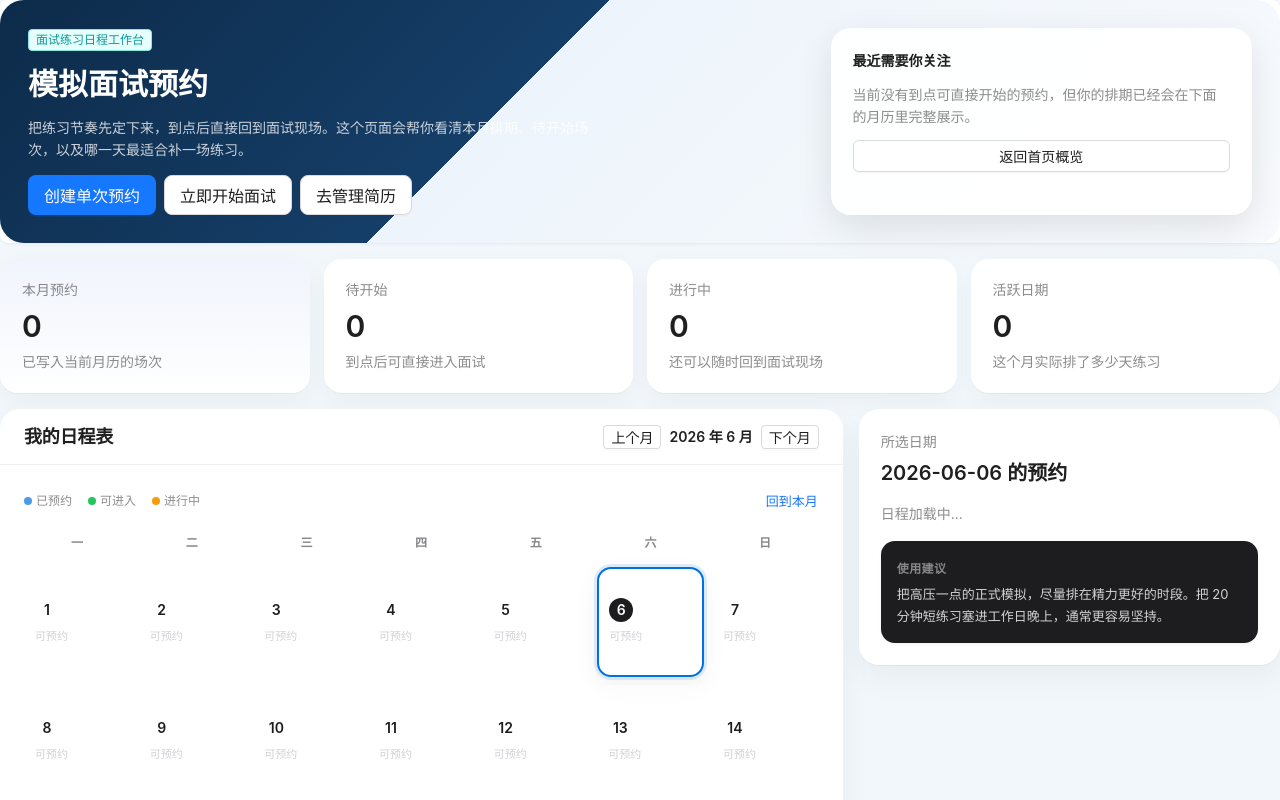
Scenario: InterviewSchedulePage › should submit create schedule payload
This screenshot has width=1280, height=800.
Click the button "创建单次预约".
click(92, 195)  # box [28,175,156,215]
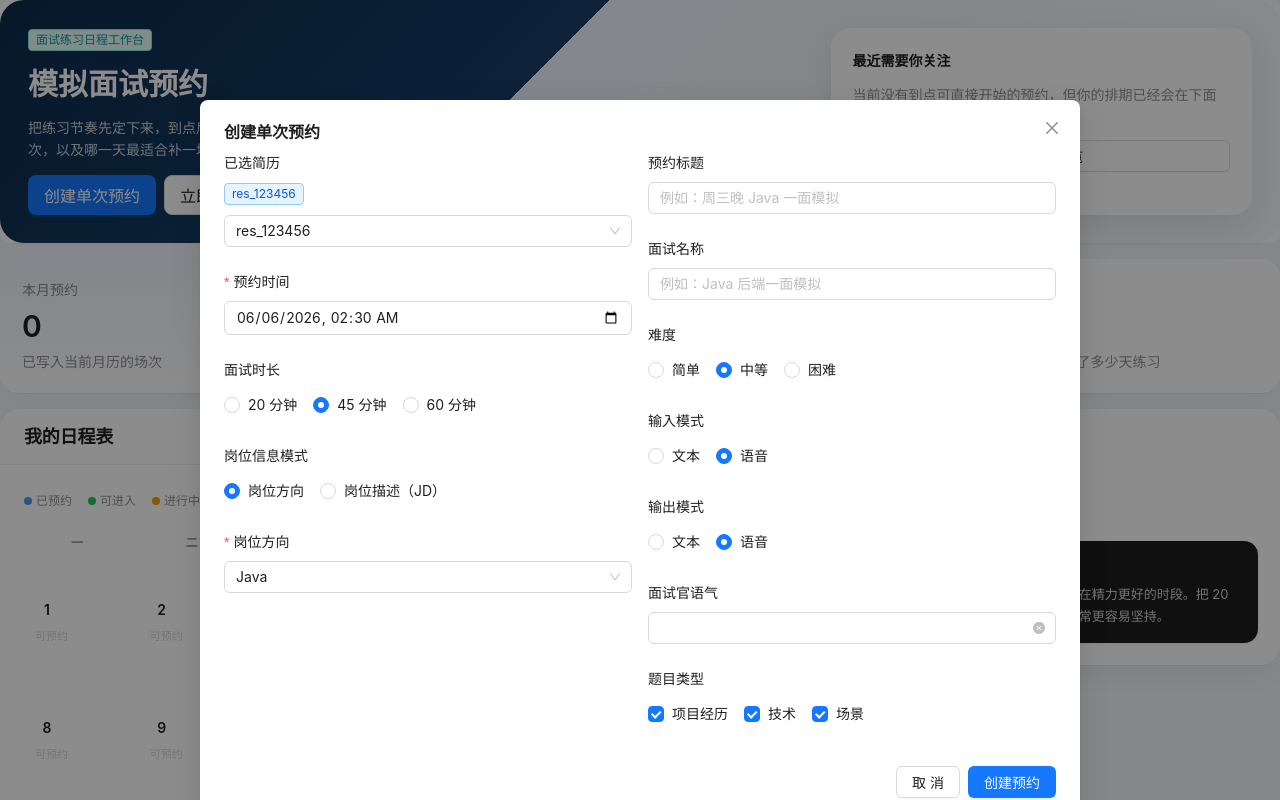
Result: the dialog is shown
Replace the text in the field labelled "预约时间" with "2026-06-11T20:00" at (428, 318), box [224,301,632,335]
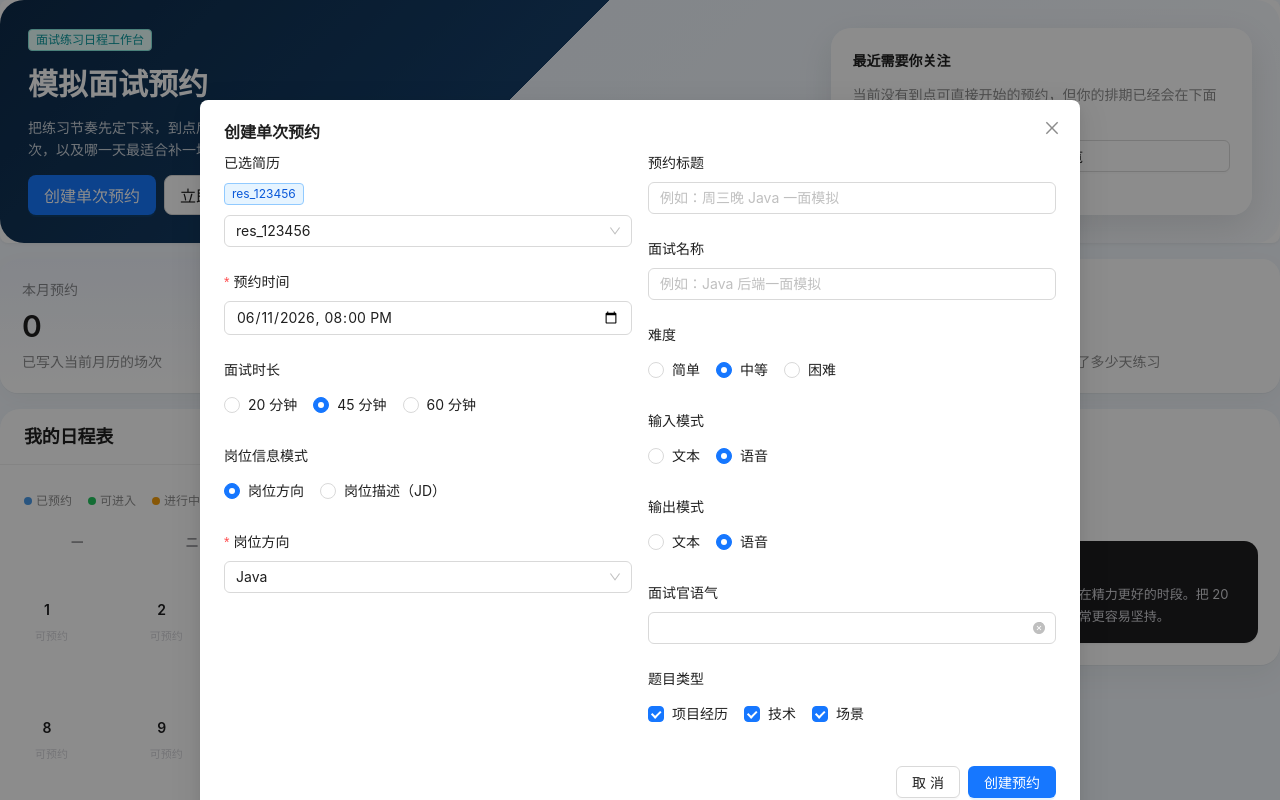
Type "新的预约" into the field with placeholder "例如：周三晚 Java 一面模拟".
click(852, 198); type("新的预约")  # box [648,182,1056,214]
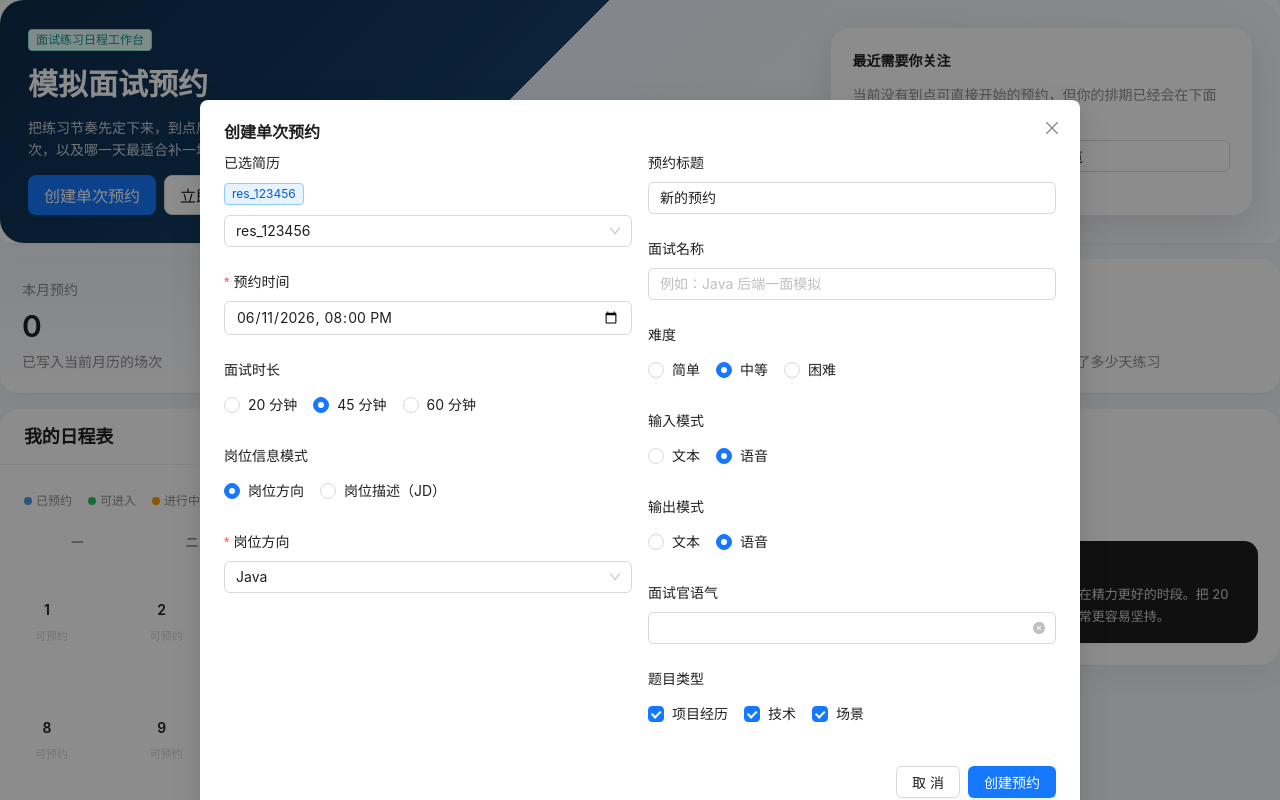
Click the button "创建预约".
click(1012, 782)  # box [968,766,1056,798]
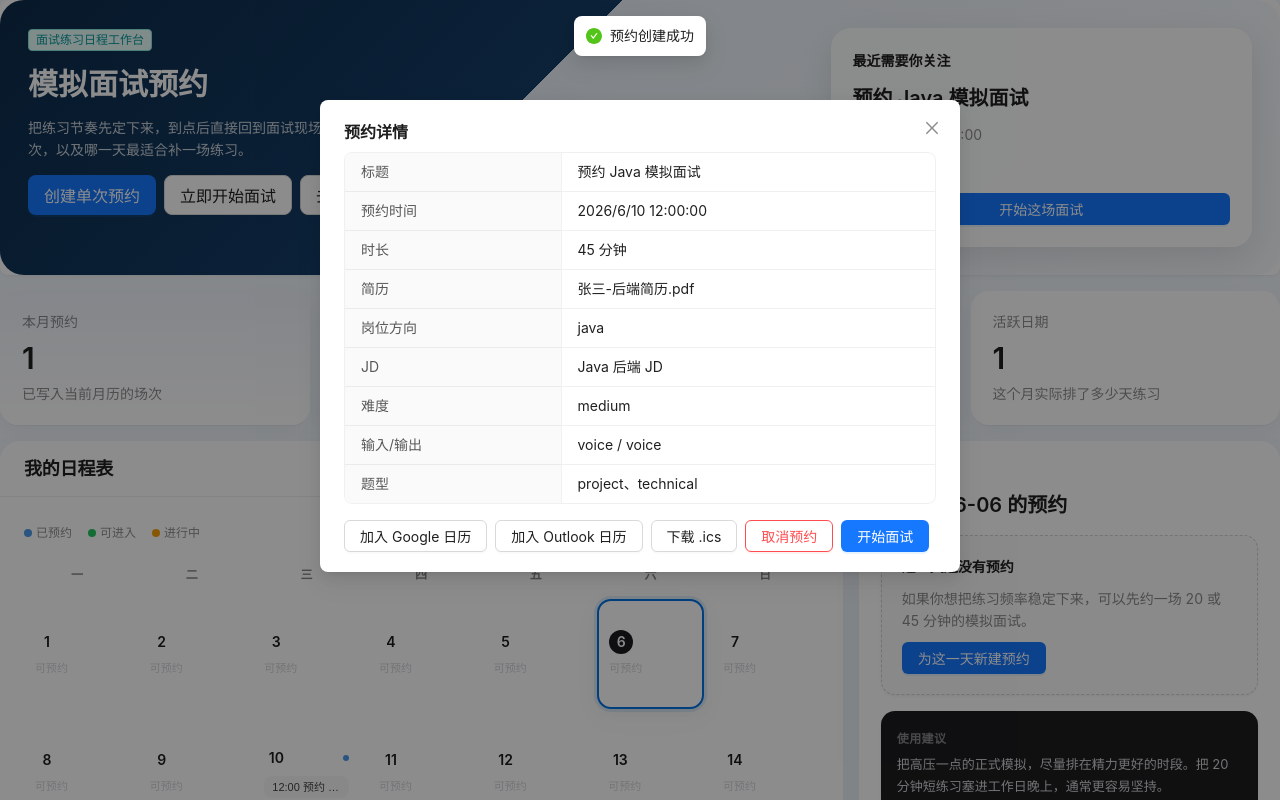
Result: the button "加入 Google 日历" is shown at [344,520,487,552]
